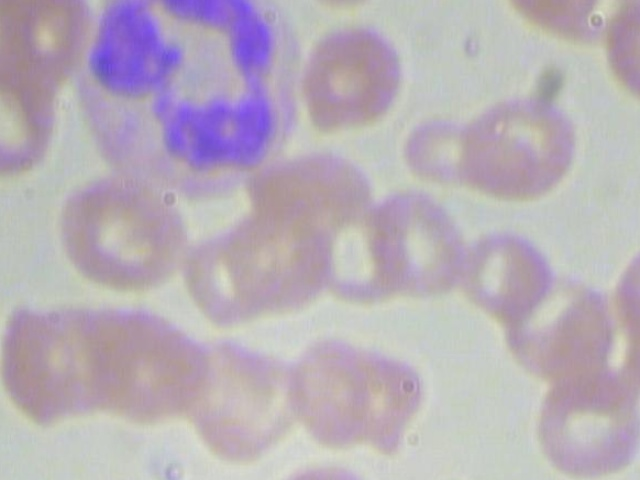WBC: (75, 0, 302, 202)
